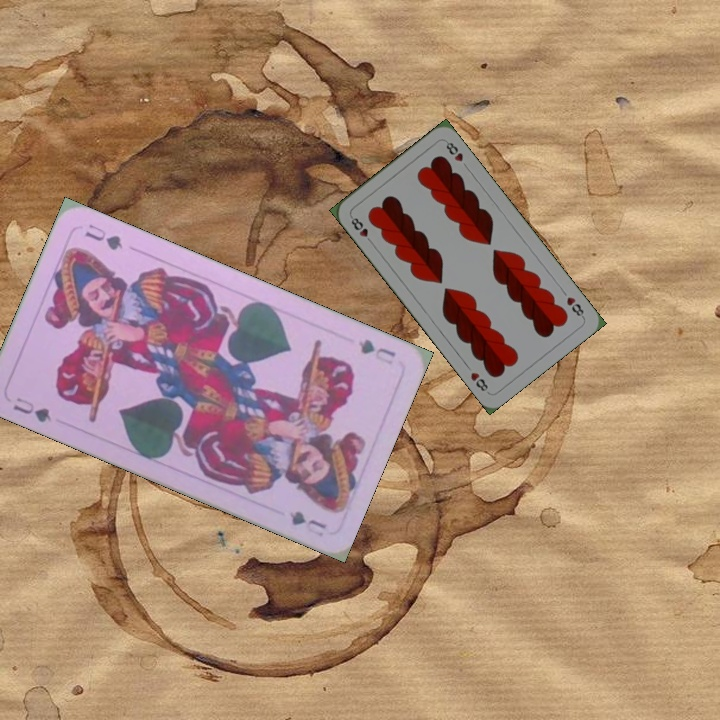GU: (9, 393, 55, 425), (354, 335, 398, 368)
H8: (346, 212, 376, 247), (562, 293, 587, 321)
